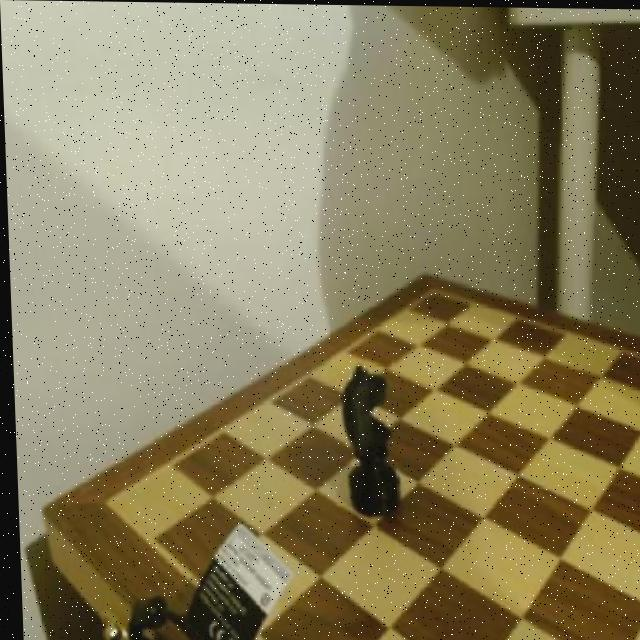black-king: (332, 348, 398, 528)
